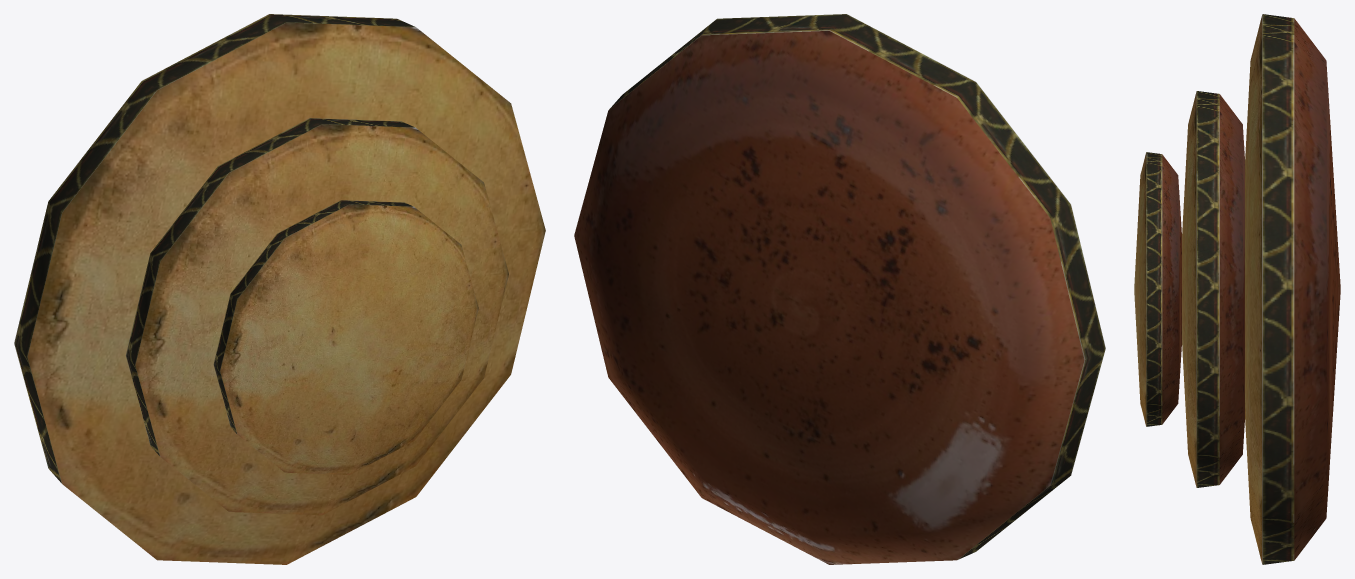
Rendered from rebana.gltf.
3 renders of one model, left to right at view 1: azimuth 30°, elevation 25°; view 2: azimuth 150°, elevation 25°; view 3: azimuth 270°, elevation 25°, orthographic. The views are drawn at different scales.
Visible parts, largest first — view 1: Cylinder001, Cylinder002, Cylinder003; view 2: Cylinder001; view 3: Cylinder001, Cylinder002, Cylinder003.
Boxes of the visible parts, bbox=[...] form: Cylinder001: bbox=[14, 14, 545, 564]; Cylinder002: bbox=[125, 118, 508, 515]; Cylinder003: bbox=[213, 200, 478, 474]; Cylinder001: bbox=[574, 14, 1105, 564]; Cylinder001: bbox=[1245, 14, 1340, 564]; Cylinder002: bbox=[1182, 91, 1244, 487]; Cylinder003: bbox=[1134, 152, 1181, 426].
Bounding box in the file's own units: 72.71 × 72.71 × 27.17.
3 materials, 3 textured.
